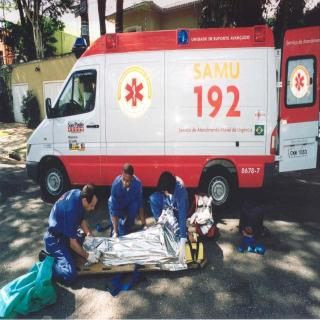Ambulance: (8, 15, 310, 171)
